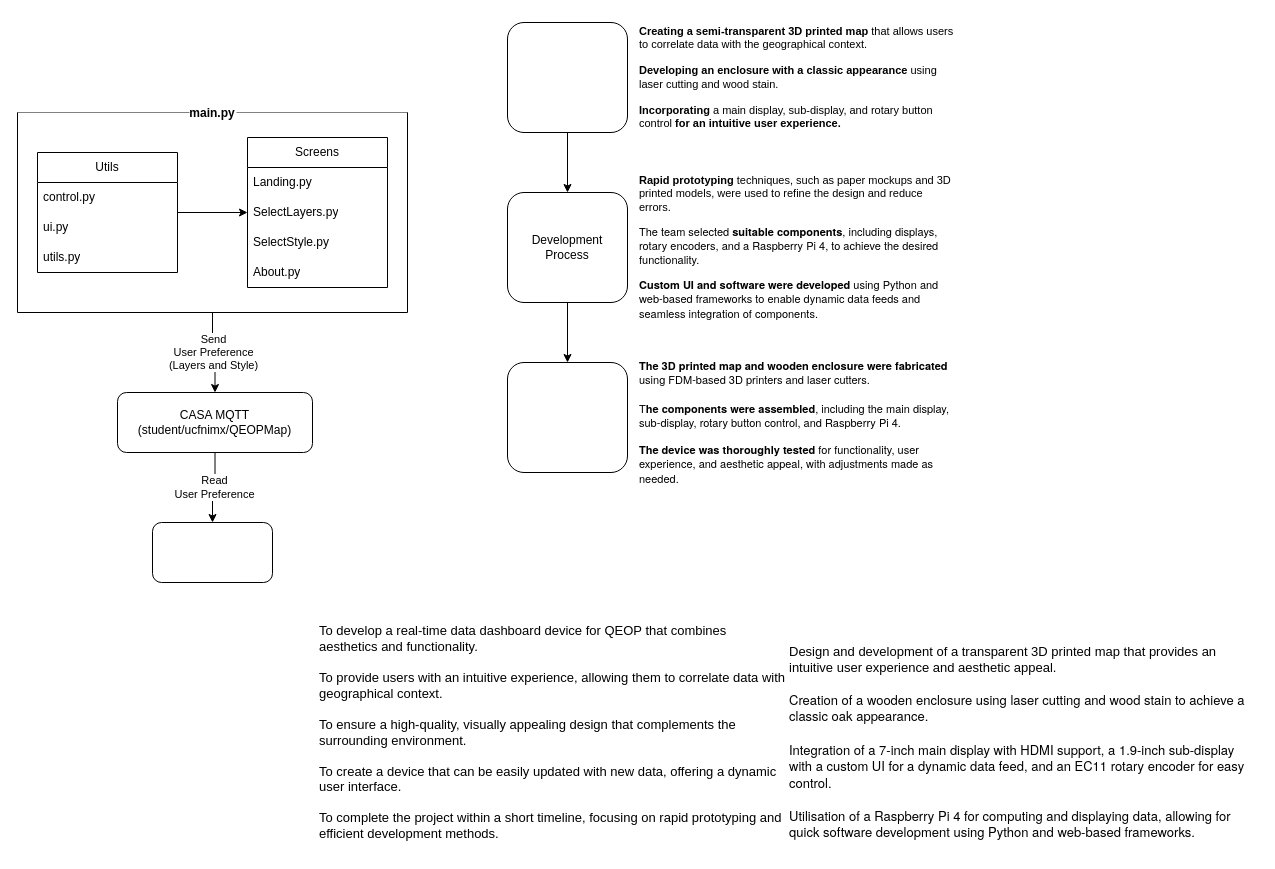
This 1275x869 diagram has some shape labels left out. Here are the shapes that lost their labels. From the top down, the centre of each, then its label:
At (x=567, y=77): "Design Process".
At (x=567, y=417): "Execution Process".
At (x=212, y=552): "Map Application".
